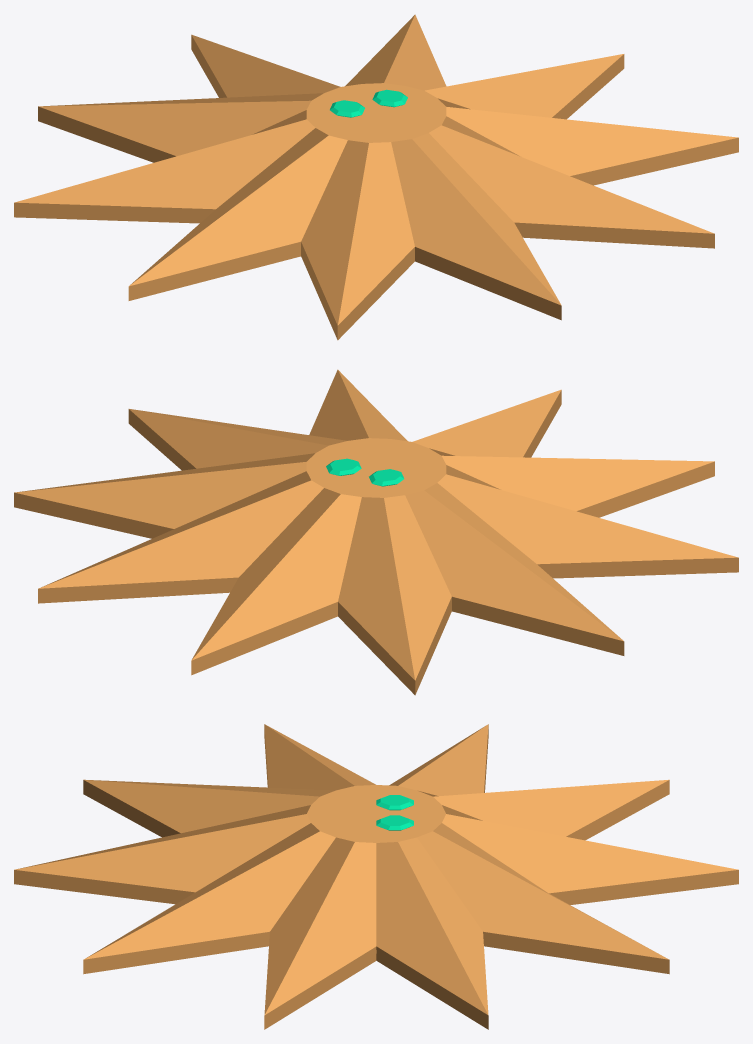
Rendered from Starfish.fbx.
3 renders of one model, top to bottom at view 1: azimuth 30°, elevation 25°; view 2: azimuth 150°, elevation 25°; view 3: azimuth 270°, elevation 25°, orthographic. The views are drawn at different scales.
Parts seen in each view (by area): view 1: Star; view 2: Star; view 3: Star.
Part boxes in pixels (left/top/right/bottom): Star: left=14, top=14, right=738, bottom=340; Star: left=14, top=369, right=738, bottom=695; Star: left=14, top=724, right=738, bottom=1029.
Bounding box in the file's own units: 190 × 29.61 × 200.
